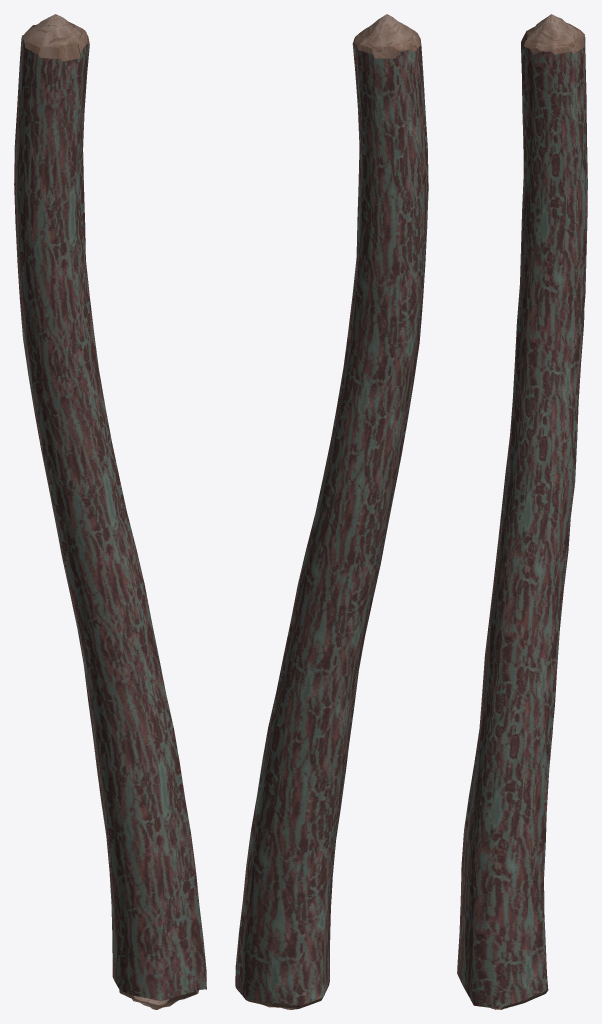
3 views of the same model, side by side, from view 1: azimuth 30°, elevation 25°; view 2: azimuth 210°, elevation 25°; view 3: azimuth 270°, elevation 25° (orthographic). The views are drawn at different scales.
Parts seen in each view (by area): view 1: SM_MapleTree_01_tree_quarters_bottom_LOD0; view 2: SM_MapleTree_01_tree_quarters_bottom_LOD0; view 3: SM_MapleTree_01_tree_quarters_bottom_LOD0.
Boxes of the visible parts, x1,y1,x2,y2 form: SM_MapleTree_01_tree_quarters_bottom_LOD0: [14, 14, 206, 1009]; SM_MapleTree_01_tree_quarters_bottom_LOD0: [235, 14, 428, 1009]; SM_MapleTree_01_tree_quarters_bottom_LOD0: [457, 14, 587, 1009].
Size of the model in its own units: 1.16 by 7.35 by 0.9092.
1 material, 1 textured.
